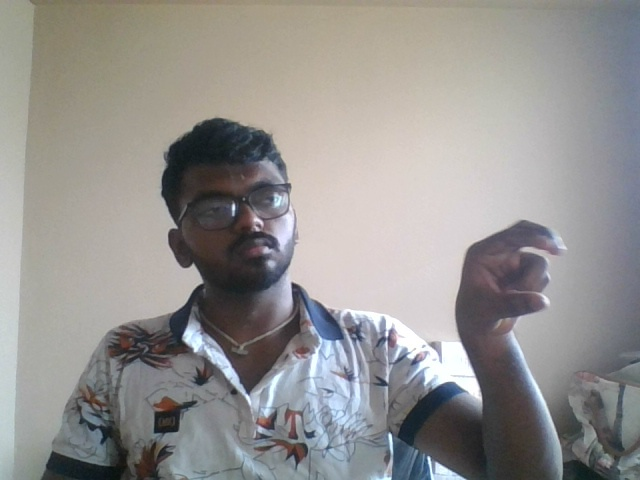No: (418, 197, 598, 385)
